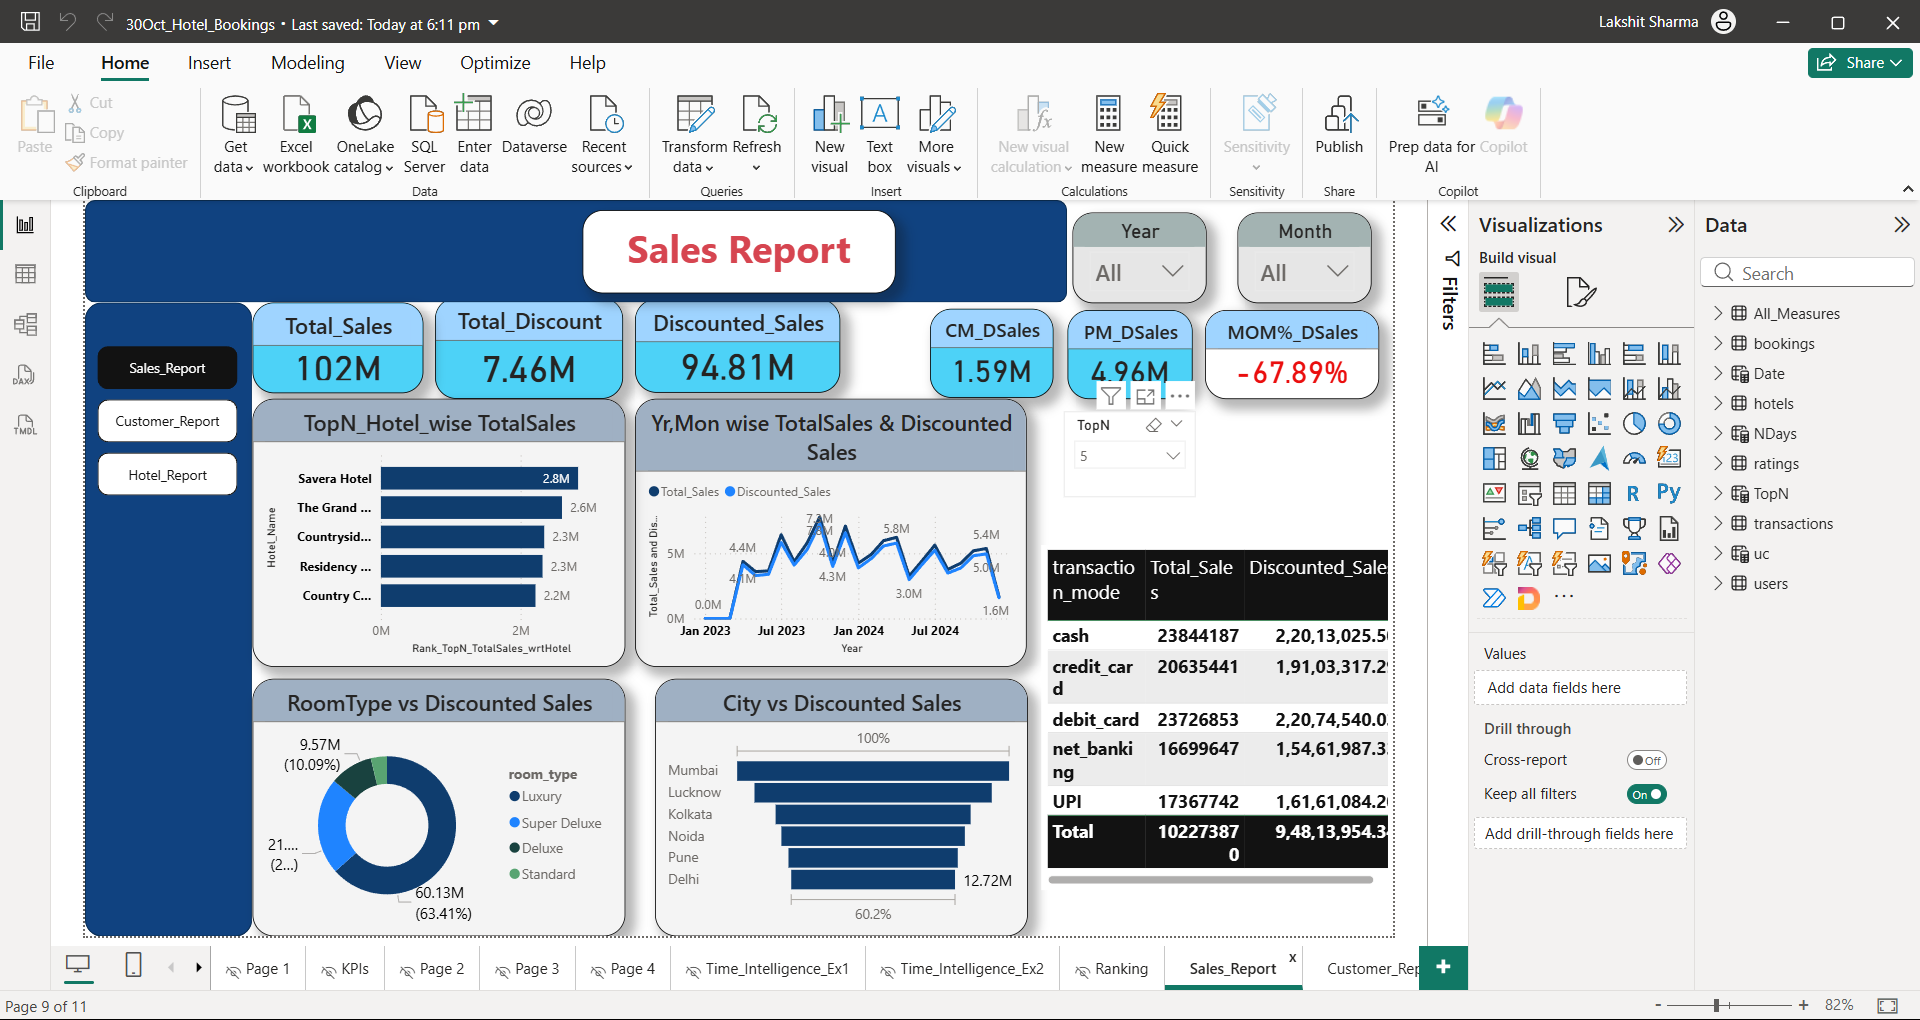

The dashboard page shown, as its layout file describes it:
{"tool":"powerbi","page":{"name":"Sales_Report","canvas":[1280,720],"ordinal":8},"visuals":[{"type":"card","title":"Total_Discount","fields":{"Values":["All_Measures.Total_Discount"]},"box":[342.4,95.4,184,98.8],"z":0},{"type":"slicer","title":"Year","fields":{"Values":["Date.Date.Variation.Date Hierarchy.Year"]},"box":[966,11.9,131.2,88.6],"z":1000},{"type":"slicer","title":"Month","fields":{"Values":["Date.Date.Variation.Date Hierarchy.Quarter"]},"box":[1127.8,11.9,131.2,88.6],"z":2000},{"type":"card","title":"Discounted_Sales","fields":{"Values":["All_Measures.Discounted_Sales"]},"box":[538.4,97.1,201,92],"z":3000},{"type":"card","title":"CM_DSales","fields":{"Values":["All_Measures.CM_DSales"]},"box":[827.1,106.6,120.9,87.5],"z":4000},{"type":"card","title":"PM_DSales","fields":{"Values":["All_Measures.PM_DSales"]},"box":[960.7,108.2,122.5,87.5],"z":5000},{"type":"card","title":"MOM%_DSales","fields":{"Values":["All_Measures.MOM%_DSales"]},"box":[1095.9,108.2,170.2,87.5],"z":6000},{"type":"shape","box":[0,0,960.7,100.2],"z":7000},{"type":"card","title":"Total_Sales","fields":{"Values":["All_Measures.Total_Sales"]},"box":[163.6,100.5,167,88.6],"z":8000},{"type":"shape","box":[0,100.5,163.6,620.1],"z":9000},{"type":"textbox","box":[487.2,10.2,306.7,81.8],"z":10000},{"type":"slicer","fields":{"Values":["TopN.TopN"]},"box":[957.5,206.1,129.5,85.2],"z":11000},{"type":"clusteredBarChart","title":"TopN_Hotel_wise TotalSales","fields":{"Category":["hotels.Hotel_Name"],"Y":["All_Measures.Rank_TopN_TotalSales_wrtHotel"]},"box":[163.6,194.2,364.6,262.4],"z":12000},{"type":"donutChart","title":"RoomType vs Discounted Sales","fields":{"Category":["bookings.room_type"],"Y":["All_Measures.Discounted_Sales"]},"box":[163.6,468.5,364.6,252.1],"z":13000},{"type":"lineChart","title":"Yr,Mon wise TotalSales & Discounted Sales","fields":{"Category":["Date.Date.Variation.Date Hierarchy.Year","Date.Date.Variation.Date Hierarchy.Month"],"Y":["All_Measures.Total_Sales","All_Measures.Discounted_Sales"]},"box":[538.4,194.2,383.3,262.4],"z":13001},{"type":"funnel","title":"City vs Discounted Sales","fields":{"Category":["hotels.city"],"Y":["All_Measures.Discounted_Sales"]},"box":[557.1,468.5,364.6,252.1],"z":13002},{"type":"tableEx","fields":{"Values":["transactions.transaction_mode","All_Measures.Total_Sales","All_Measures.Discounted_Sales"]},"box":[935.3,337.3,344.1,337.3],"z":13003},{"type":"pageNavigator","box":[11.9,143.1,138,148.2],"z":13004}]}

Visuals, with their boxes on the page's 1280x720 design canvas (x1, y1, x2, y2). These are canvas units, not pixel positions in the 1920x1020 screenshot, which may show the page scaled, cropped or inside an application window:
"Total_Discount" card: bbox(342, 95, 526, 194)
"Year" slicer: bbox(966, 12, 1097, 100)
"Month" slicer: bbox(1128, 12, 1259, 100)
"Discounted_Sales" card: bbox(538, 97, 739, 189)
"CM_DSales" card: bbox(827, 107, 948, 194)
"PM_DSales" card: bbox(961, 108, 1083, 196)
"MOM%_DSales" card: bbox(1096, 108, 1266, 196)
shape: bbox(0, 0, 961, 100)
"Total_Sales" card: bbox(164, 100, 331, 189)
shape: bbox(0, 100, 164, 721)
textbox: bbox(487, 10, 794, 92)
slicer - TopN.TopN: bbox(958, 206, 1087, 291)
"TopN_Hotel_wise TotalSales" clusteredBarChart: bbox(164, 194, 528, 457)
"RoomType vs Discounted Sales" donutChart: bbox(164, 468, 528, 721)
"Yr,Mon wise TotalSales & Discounted Sales" lineChart: bbox(538, 194, 922, 457)
"City vs Discounted Sales" funnel: bbox(557, 468, 922, 721)
tableEx - transactions.transaction_mode x All_Measures.Total_Sales: bbox(935, 337, 1279, 675)
pageNavigator: bbox(12, 143, 150, 291)
